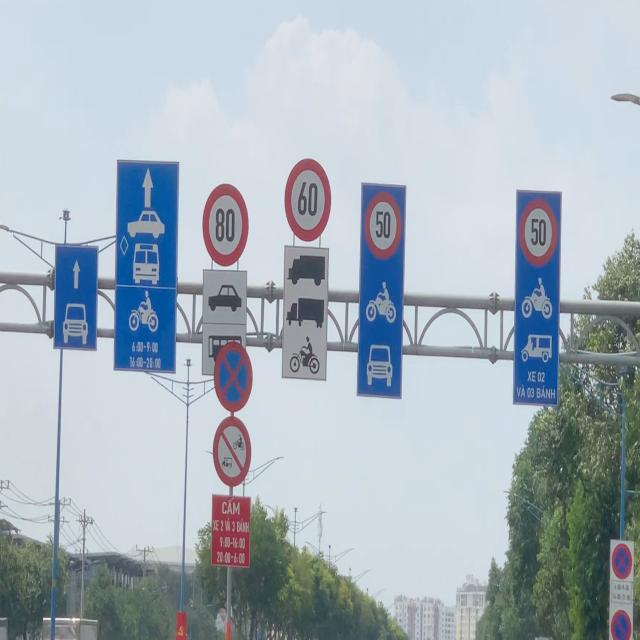Cam con lai: (213, 419, 252, 485)
Cam do: (610, 609, 632, 640)
Cam dung va do: (214, 342, 253, 412), (612, 543, 632, 580)
Toc do toi da: (284, 158, 332, 242), (202, 183, 249, 267), (519, 198, 557, 267), (364, 192, 402, 259)
